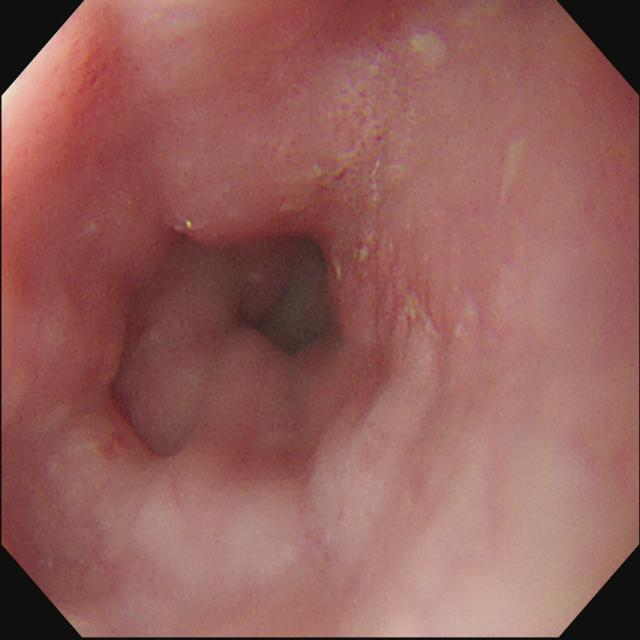A: (332, 55, 413, 201), (100, 372, 179, 472), (77, 46, 127, 98)
E: (245, 232, 335, 352)
J: (410, 29, 450, 63), (352, 231, 377, 264), (405, 298, 424, 324), (330, 256, 345, 283)
